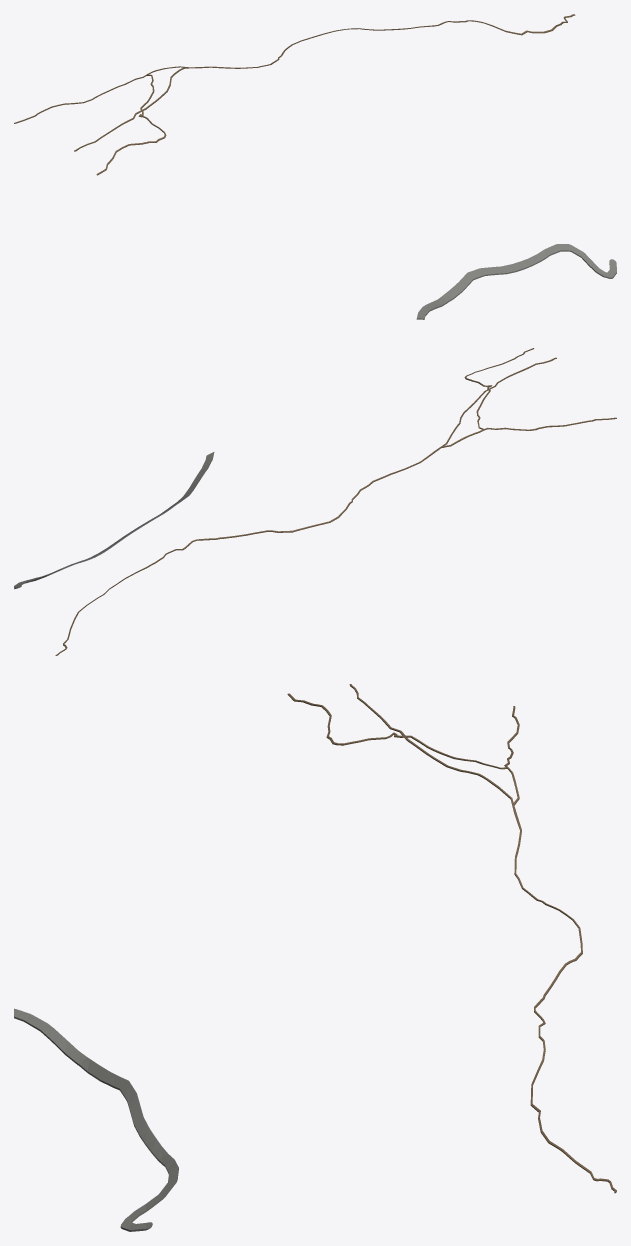
3 views of the same model, one above another, from view 1: azimuth 30°, elevation 25°; view 2: azimuth 210°, elevation 25°; view 3: azimuth 270°, elevation 25° (orthographic). The views are drawn at different scales.
Bounding box in the file's own units: 587 × 171 × 375.
